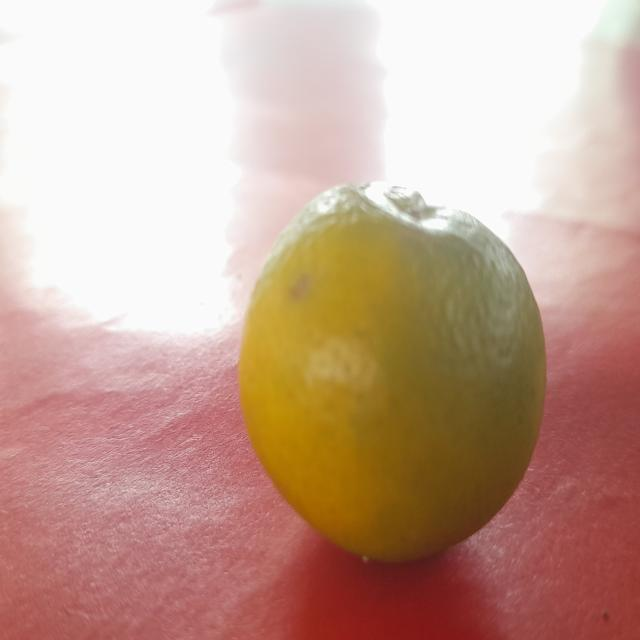greening: (240, 168, 547, 582)
